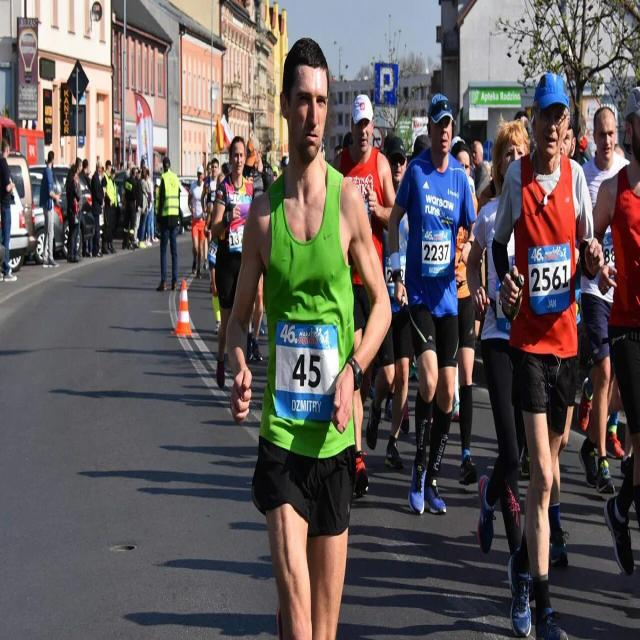Bib: (284, 351, 330, 391), (532, 264, 575, 294), (421, 242, 449, 266)
